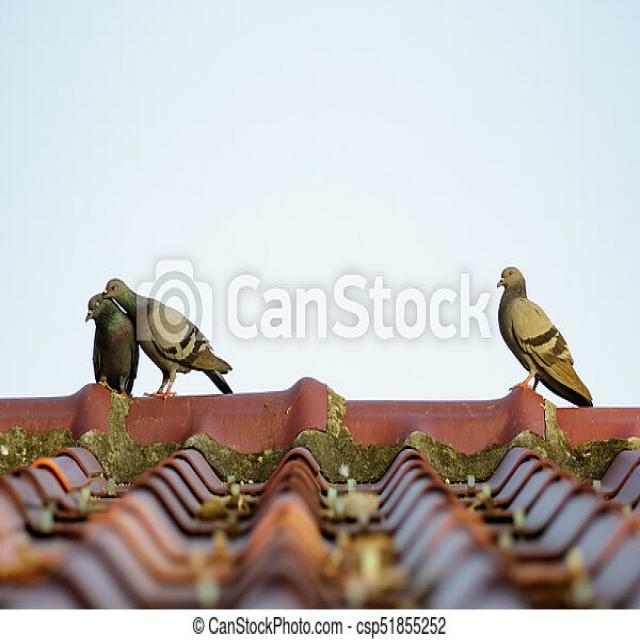bird: (495, 266, 594, 408), (134, 276, 234, 400), (86, 286, 140, 398)
